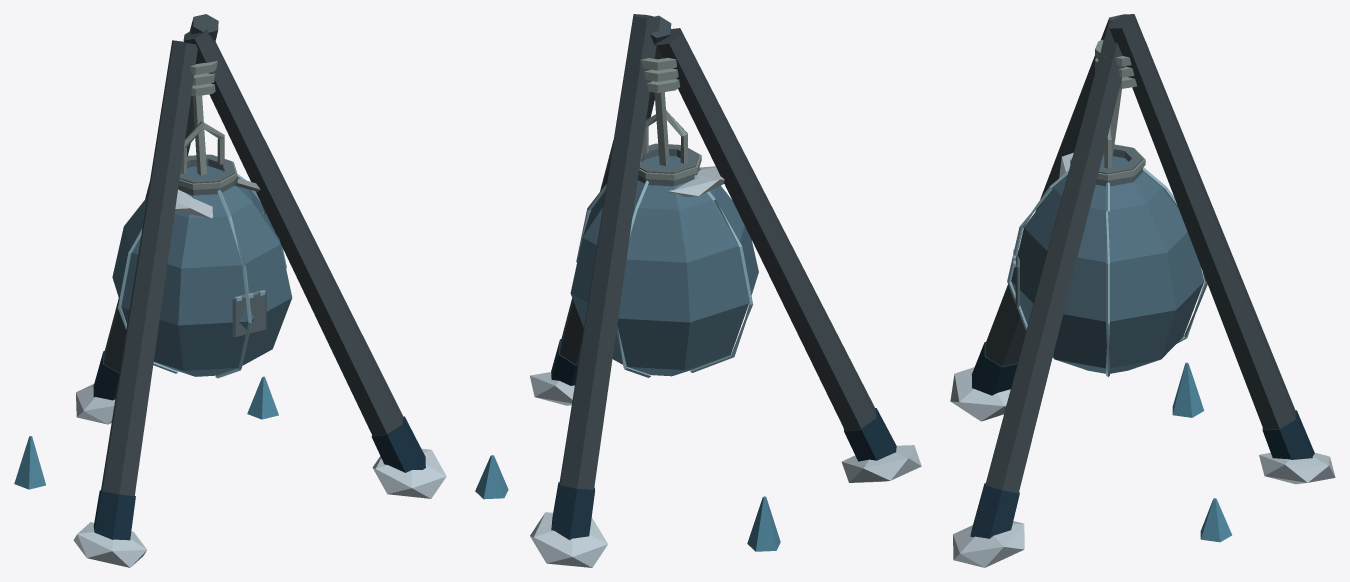
The model's file is Suspended_Supply_Tripod.glb.
3 renders of one model, left to right at view 1: azimuth 30°, elevation 25°; view 2: azimuth 150°, elevation 25°; view 3: azimuth 270°, elevation 25°, orthographic. The views are drawn at different scales.
Parts seen in each view (by area): view 1: Suspended_Supply_Tripod; view 2: Suspended_Supply_Tripod; view 3: Suspended_Supply_Tripod.
Boxes of the visible parts, x1,y1,x2,y2 form: Suspended_Supply_Tripod: [14, 14, 446, 567]; Suspended_Supply_Tripod: [475, 14, 921, 567]; Suspended_Supply_Tripod: [950, 14, 1335, 567].
Bounding box in the file's own units: 2.47 × 2.96 × 2.2.
